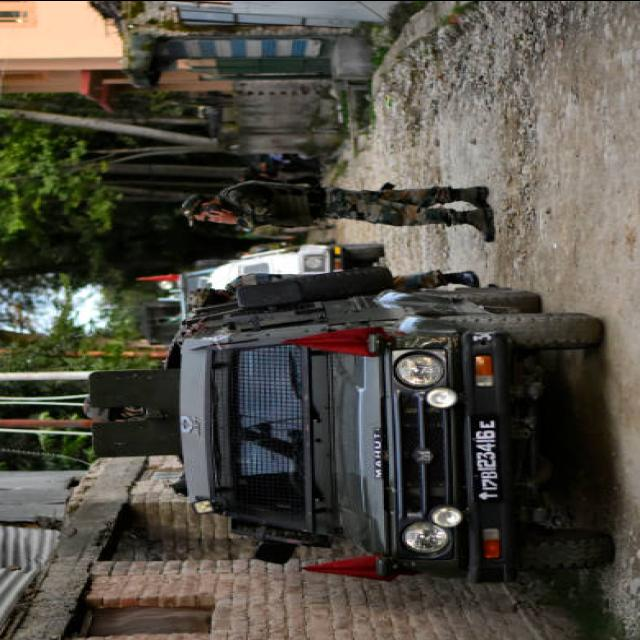LMV: (89, 265, 612, 582), (179, 244, 382, 319)
soldier: (181, 180, 494, 242), (192, 269, 478, 306)
